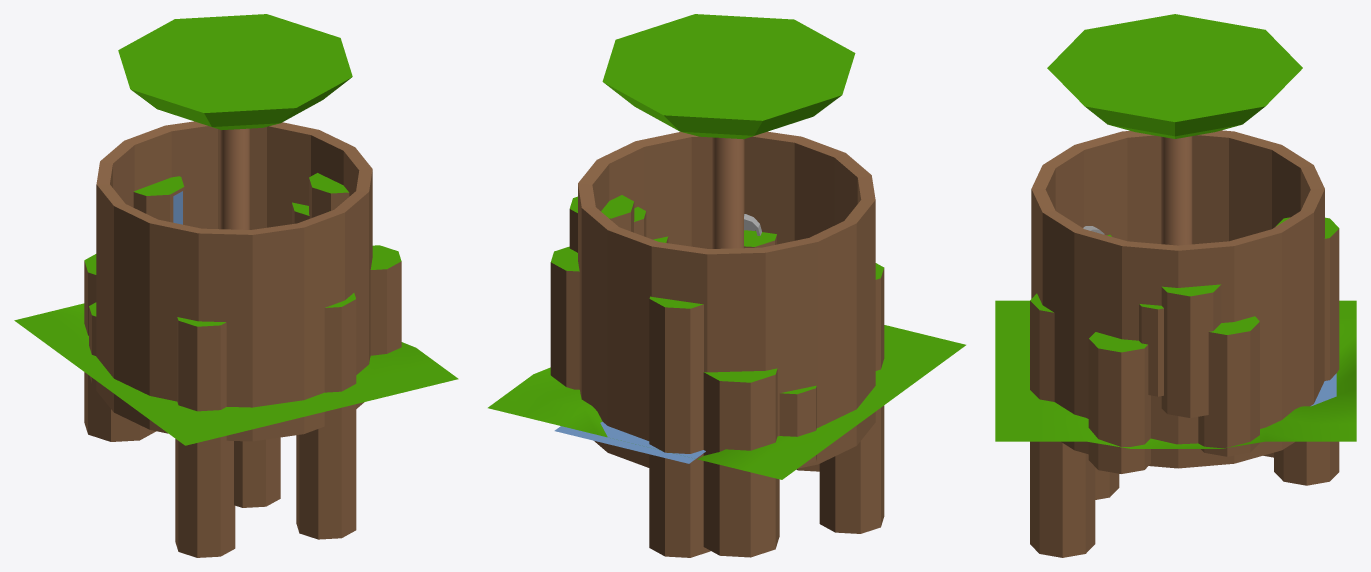
File: HubWorld.fbx
3 views of the same model, side by side, from view 1: azimuth 30°, elevation 25°; view 2: azimuth 150°, elevation 25°; view 3: azimuth 270°, elevation 25° (orthographic). The views are drawn at different scales.
Visible parts, largest first — view 1: pCylinder1, pCylinder13, pPlane1, pCylinder6, pCylinder12, pCylinder9, pCylinder11, pCylinder2, pCylinder4, pCylinder5, pCylinder7; view 2: pCylinder1, pCylinder13, pCylinder5, pCylinder4, pPlane1, pCylinder6, pCylinder8, pCylinder2, pCylinder3, pPlane2, pCylinder7; view 3: pCylinder1, pCylinder13, pPlane1, pCylinder12, pCylinder9, pCylinder8, pCylinder7, pCylinder5, pCylinder2, pCylinder10, pCylinder6.
Boxes of the visible parts, box(x1,y1,x2,y2) form: pCylinder1: box(96, 121, 372, 441); pCylinder13: box(118, 14, 352, 130); pPlane1: box(14, 303, 458, 445); pCylinder6: box(175, 317, 235, 557); pCylinder12: box(296, 293, 356, 539); pCylinder9: box(370, 245, 401, 355); pCylinder11: box(234, 437, 280, 507); pCylinder2: box(220, 128, 249, 229); pCylinder4: box(84, 254, 155, 441); pCylinder5: box(133, 176, 184, 224); pCylinder7: box(309, 173, 349, 218); pCylinder1: box(578, 131, 875, 468); pCylinder13: box(602, 14, 855, 139); pCylinder5: box(649, 296, 710, 557); pCylinder4: box(703, 368, 779, 557); pPlane1: box(488, 325, 965, 479); pCylinder6: box(819, 263, 884, 533); pCylinder8: box(550, 246, 579, 389); pCylinder2: box(712, 137, 743, 248); pCylinder3: box(779, 385, 816, 466); pPlane2: box(554, 421, 705, 463); pCylinder7: box(569, 195, 634, 252); pCylinder1: box(1031, 130, 1324, 468); pCylinder13: box(1047, 14, 1302, 138); pPlane1: box(995, 300, 1356, 448); pCylinder12: box(1030, 293, 1095, 557); pCylinder9: box(1088, 332, 1150, 473); pCylinder8: box(1198, 316, 1259, 456); pCylinder7: box(1161, 284, 1221, 417); pCylinder5: box(1274, 217, 1339, 485); pCylinder2: box(1160, 136, 1192, 245); pCylinder10: box(1139, 304, 1163, 396); pCylinder6: box(1095, 234, 1119, 499).
Bounding box in the file's own units: 20.66 × 31.27 × 22.4.
